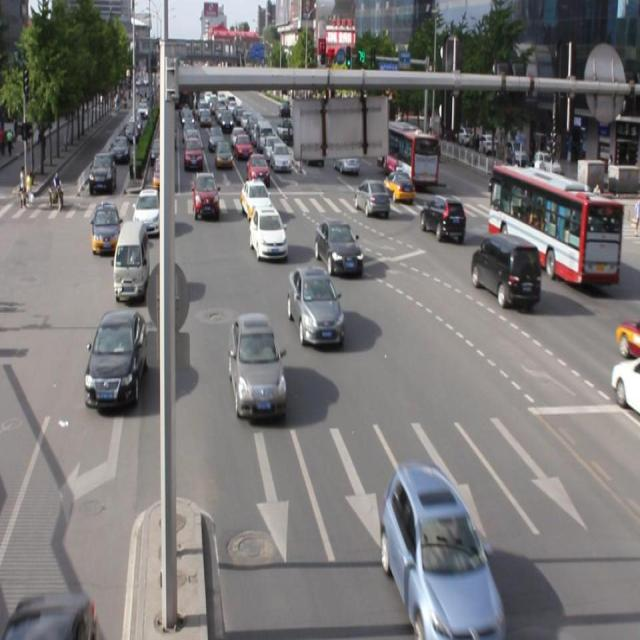car: (381, 463, 506, 640), (228, 311, 288, 423), (84, 306, 147, 409), (471, 231, 540, 308), (0, 589, 96, 640), (288, 265, 344, 345), (314, 219, 364, 274), (418, 193, 464, 240), (249, 205, 288, 260)
truck: (114, 220, 149, 300)
van: (489, 165, 620, 283)
